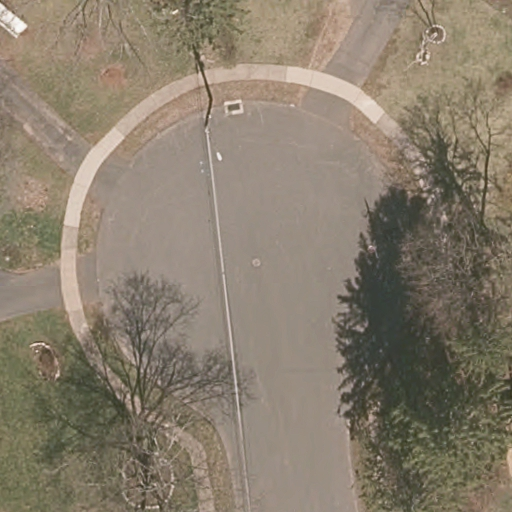DT: (203, 100, 220, 140)
